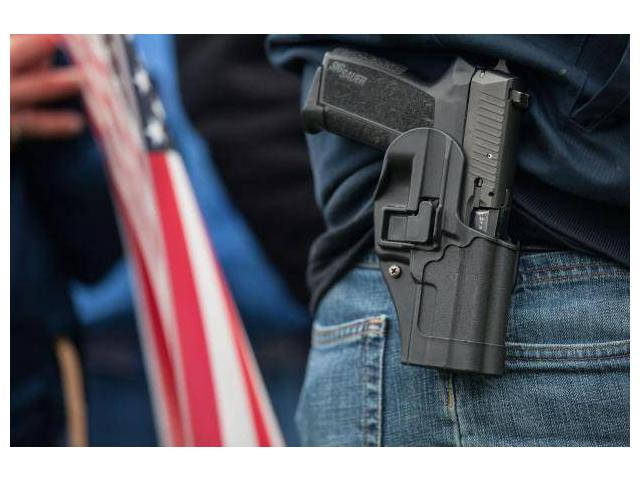pistol: (303, 47, 521, 379)
